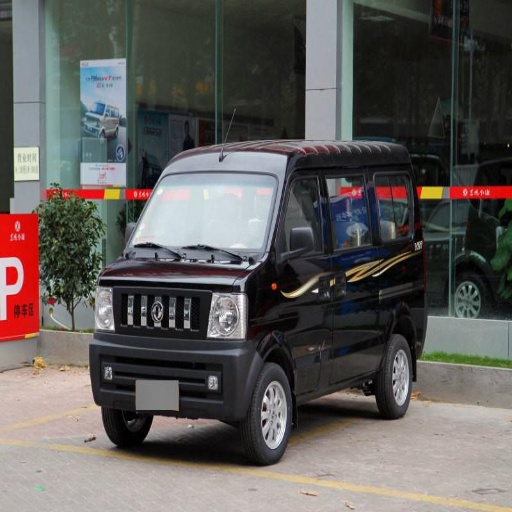front_bumper: (89, 283, 260, 416)
front_glass: (141, 176, 274, 255)
front_left_door: (274, 170, 355, 393)
trunk: (341, 229, 419, 322)
